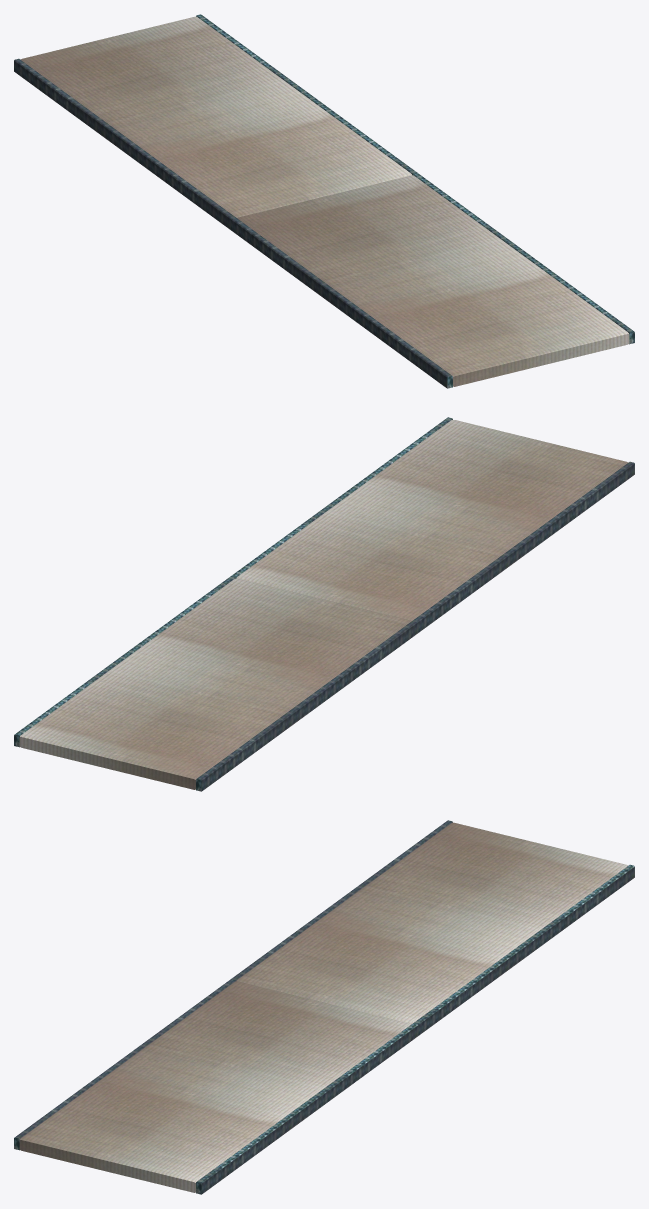
Rendered from jov_tatami_2ta.fbx.
3 views of the same model, one above another, from view 1: azimuth 30°, elevation 25°; view 2: azimuth 150°, elevation 25°; view 3: azimuth 330°, elevation 25° (orthographic).
Visible parts, largest first — view 1: jov_tatami_2ta; view 2: jov_tatami_2ta; view 3: jov_tatami_2ta.
Part boxes in pixels (left/top/right/bottom): jov_tatami_2ta: left=14, top=14, right=634, bottom=388; jov_tatami_2ta: left=14, top=417, right=634, bottom=791; jov_tatami_2ta: left=14, top=820, right=634, bottom=1194.
Bounding box in the file's own units: 107 × 6.37 × 428.
